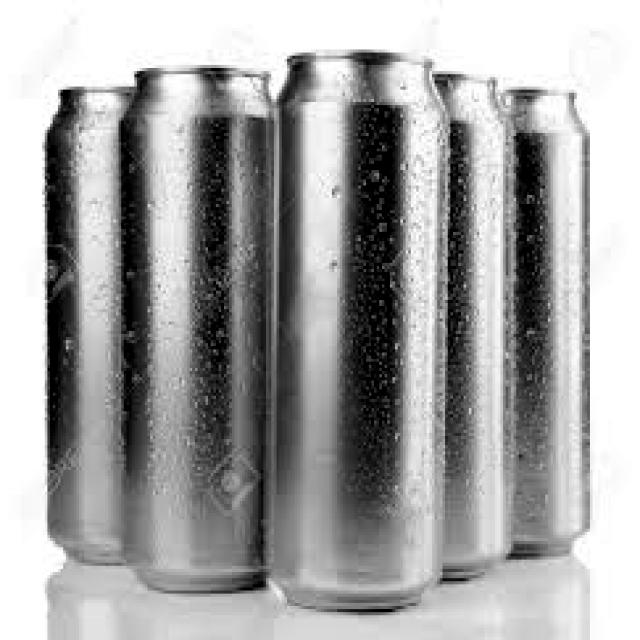Metal: (275, 48, 443, 613), (117, 64, 273, 596), (41, 84, 129, 567), (509, 81, 594, 560), (438, 70, 510, 581)
